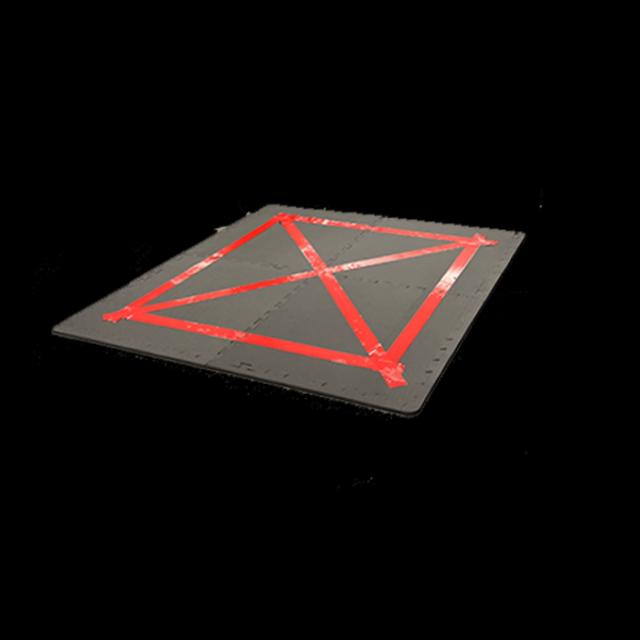landingPads: (50, 196, 533, 436)
